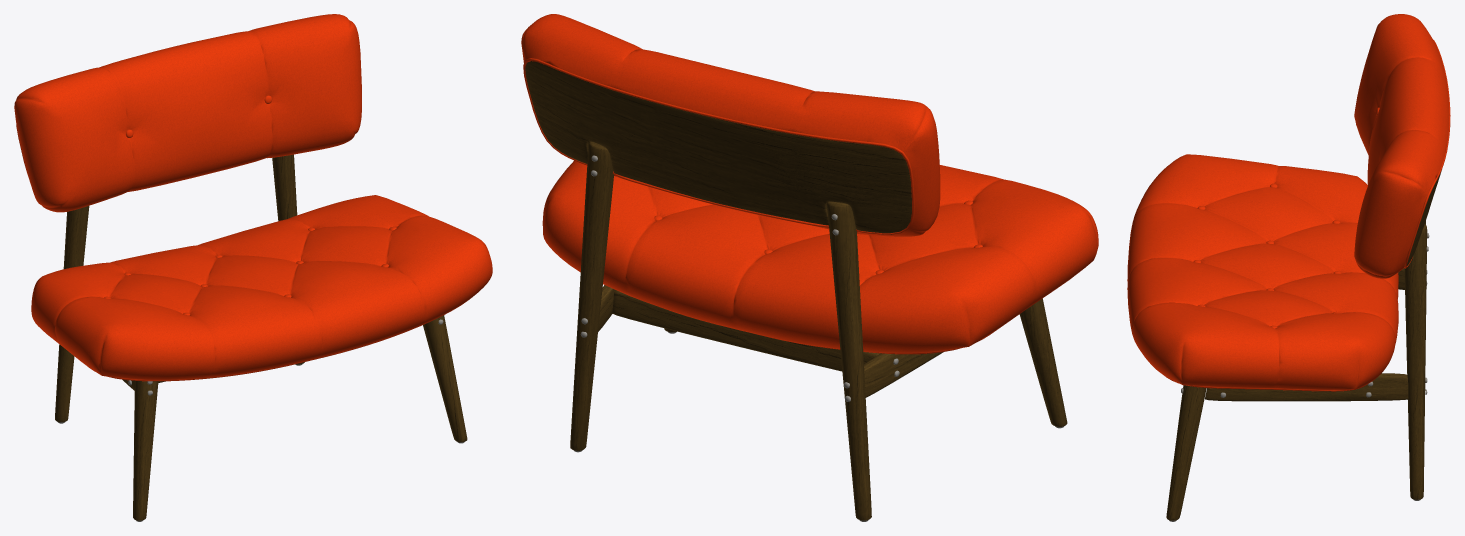
The model's file is poltrona.glb.
3 renders of one model, left to right at view 1: azimuth 30°, elevation 25°; view 2: azimuth 150°, elevation 25°; view 3: azimuth 270°, elevation 25°, orthographic. The views are drawn at different scales.
Visible parts, largest first — view 1: SheenChair_fabric, SheenChair_wood; view 2: SheenChair_fabric, SheenChair_wood; view 3: SheenChair_fabric, SheenChair_wood.
Boxes of the visible parts, x1,y1,x2,y2 form: SheenChair_fabric: (14, 14, 492, 381); SheenChair_wood: (55, 154, 467, 520); SheenChair_fabric: (521, 14, 1098, 354); SheenChair_wood: (525, 61, 1067, 520); SheenChair_fabric: (1127, 14, 1450, 391); SheenChair_wood: (1166, 170, 1441, 520).
Size of the model in its own units: 0.8266 by 0.6862 by 0.5702.
Materials: 3 (2 with a texture image).
